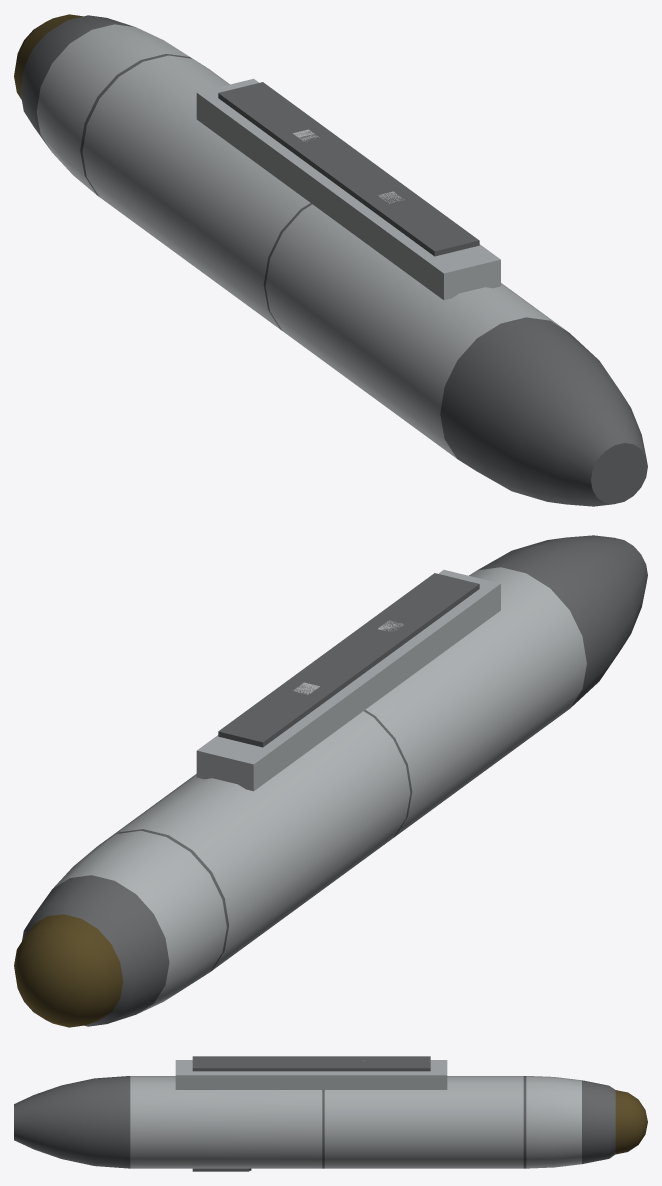
File: pod_irst.glb
3 renders of one model, top to bottom at view 1: azimuth 30°, elevation 25°; view 2: azimuth 150°, elevation 25°; view 3: azimuth 270°, elevation 25°, orthographic. The views are drawn at different scales.
Parts seen in each view (by area): view 1: pod_irst; view 2: pod_irst; view 3: pod_irst.
Boxes of the visible parts, x1=… form: pod_irst: x1=14, y1=14, x2=647, y2=506; pod_irst: x1=14, y1=535, x2=647, y2=1027; pod_irst: x1=14, y1=1056, x2=647, y2=1171.
Size of the model in its own units: 0.36 by 0.445 by 2.45.
